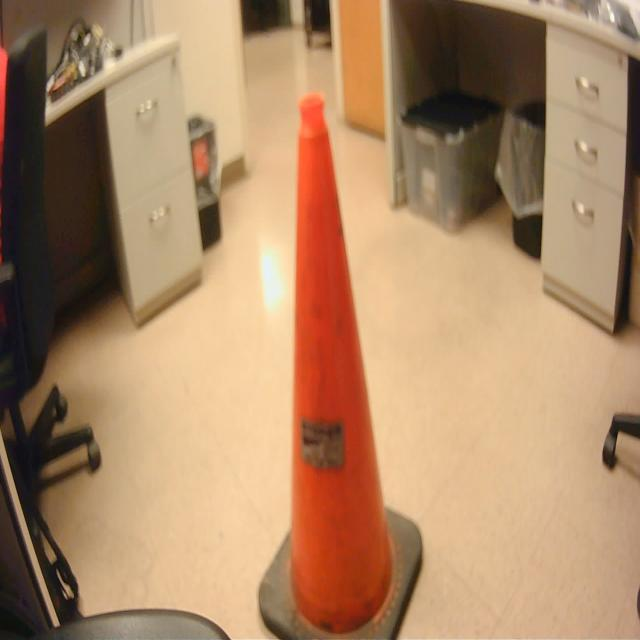traffic cone: (254, 85, 428, 640)
